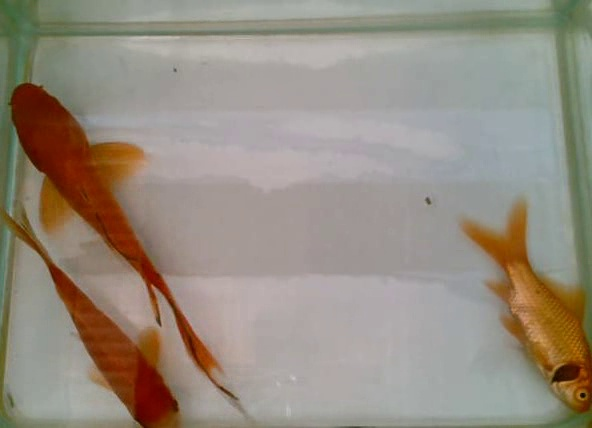alive_fish: (5, 79, 258, 424), (1, 201, 223, 428)
dead_fish: (452, 196, 592, 417)
